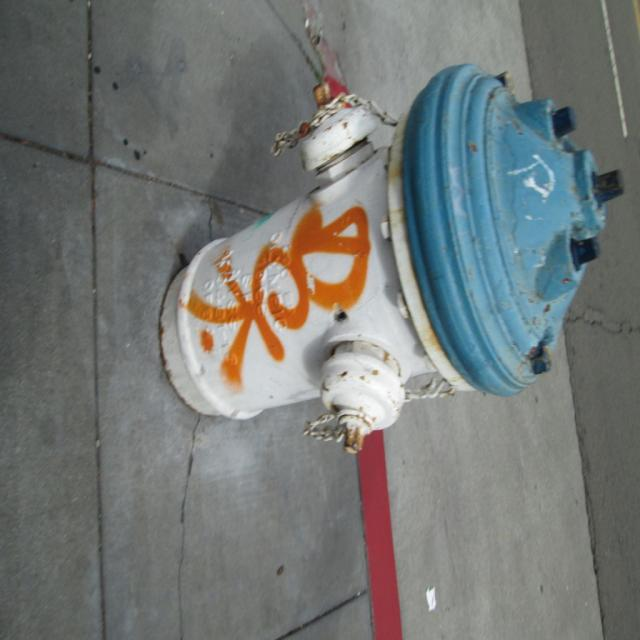fire_hydrant: (158, 62, 626, 454)
